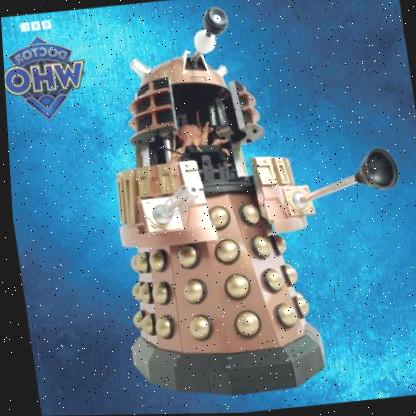dalek: (74, 0, 416, 409)
